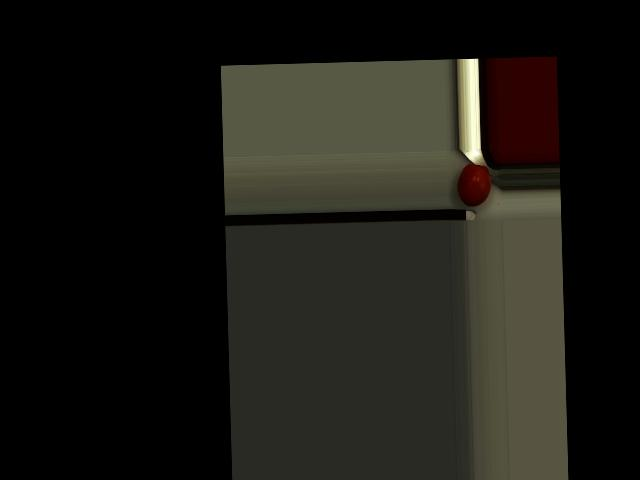tomato: (456, 163, 491, 206)
